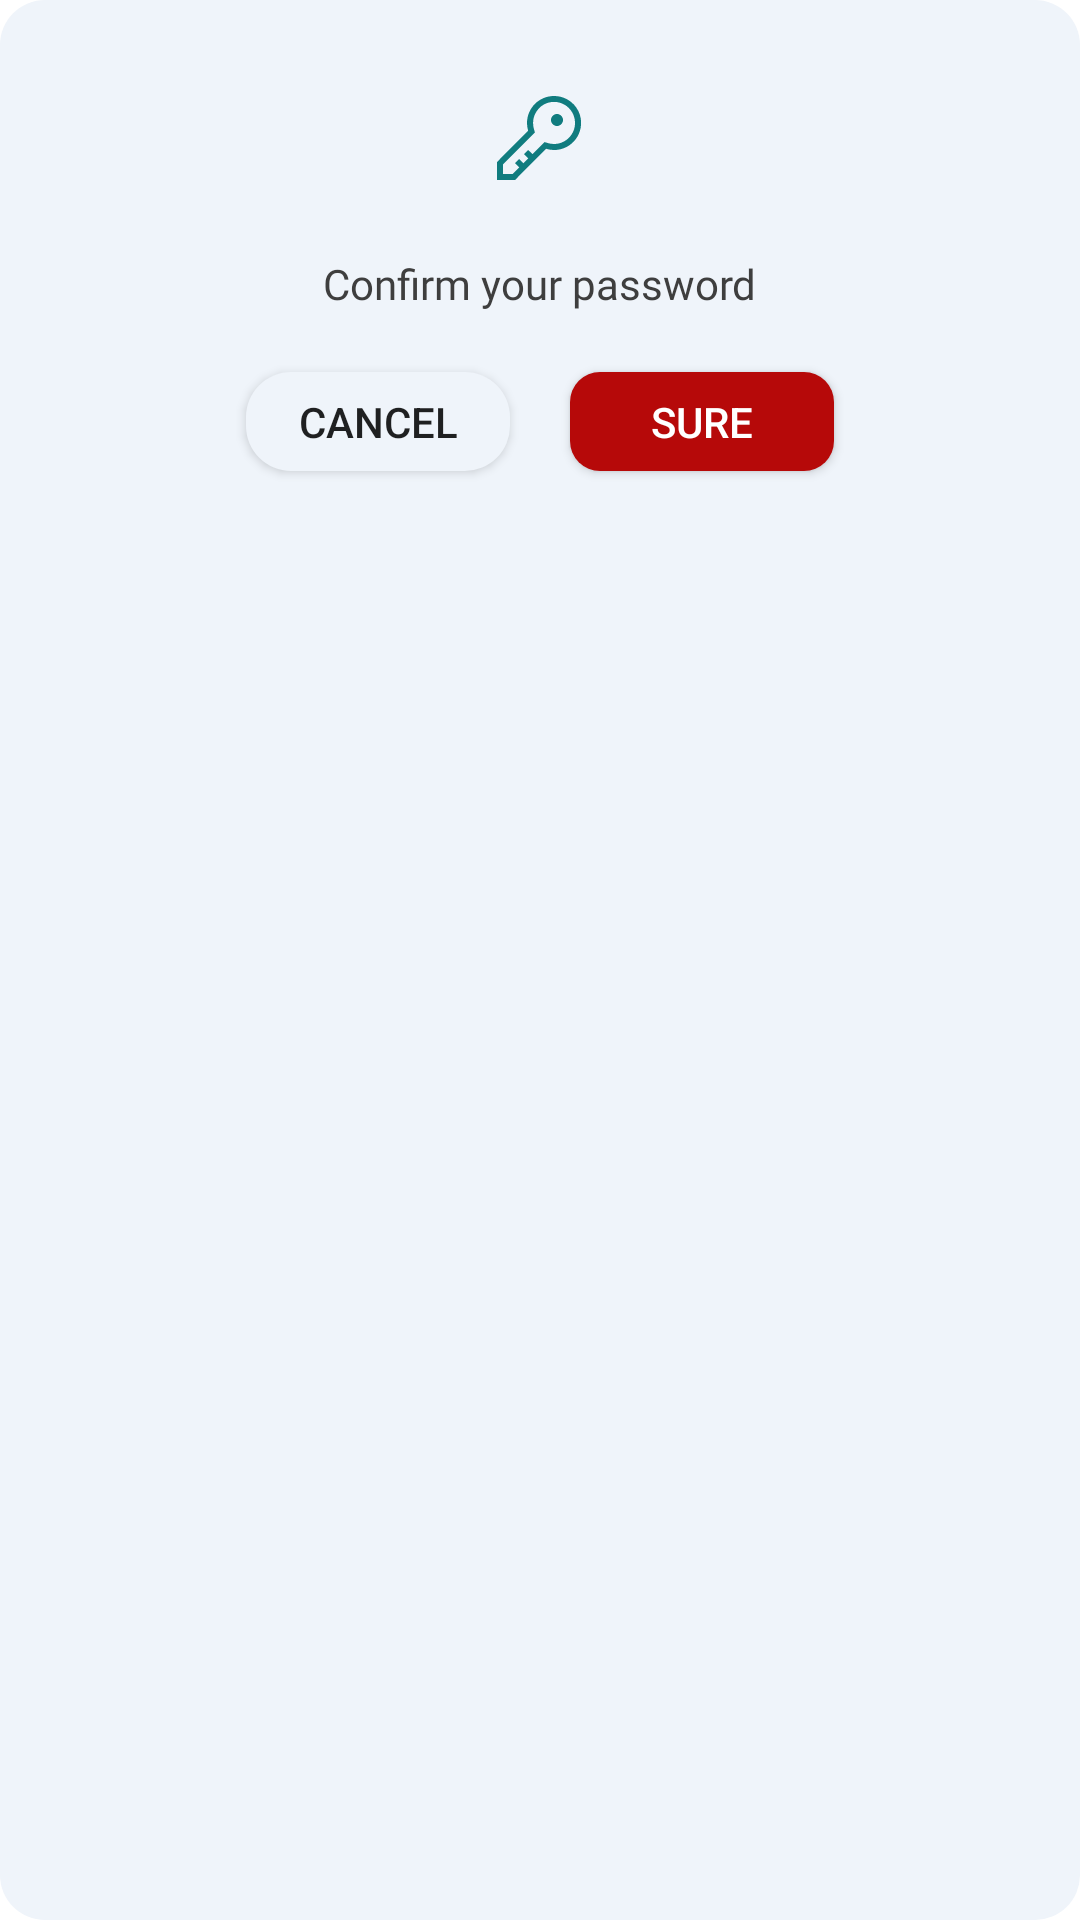

Screen size 1080×1920. Icon name, then its box in pixels as (x1, y1, x2, y2):
key: (497, 96, 581, 180)
